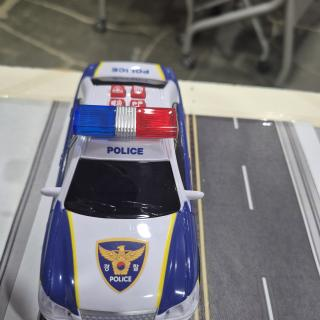Police_car: (38, 61, 204, 320)
